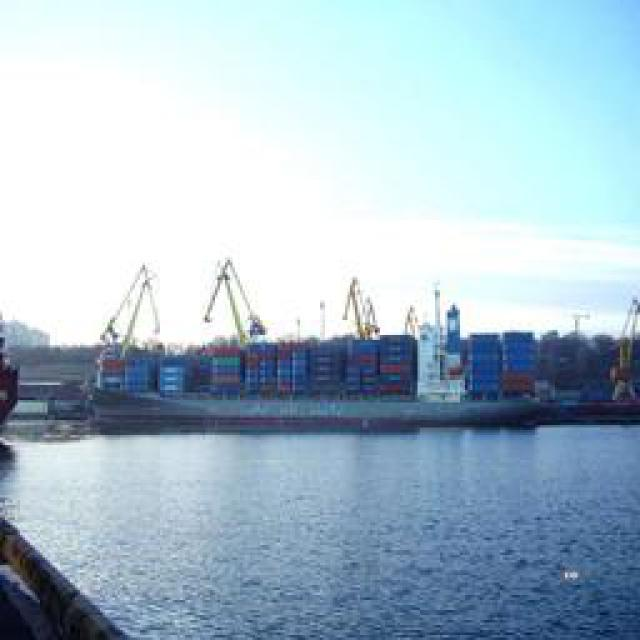Ship: (89, 259, 551, 437)
